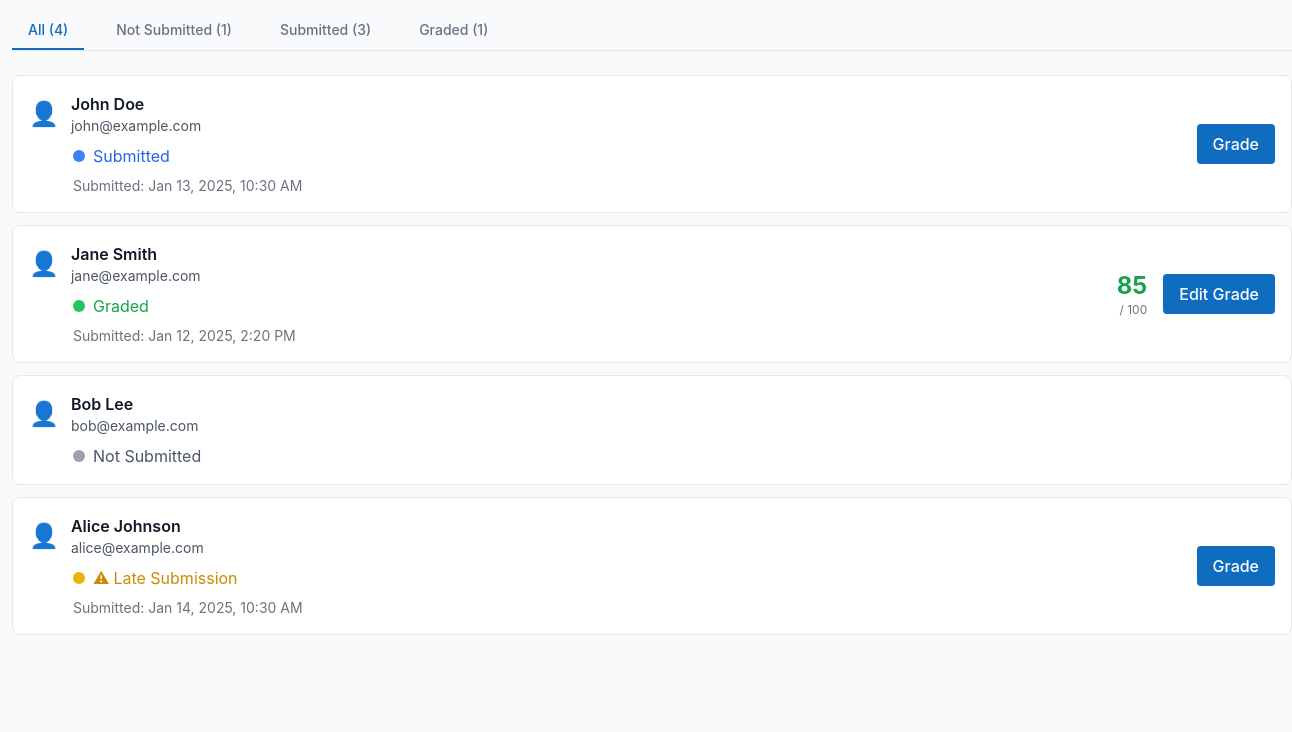
SubmissionList › should filter submissions by "Not Submitted" status
This screenshot has width=1292, height=732.
Click the button "Not Submitted (1)".
click(174, 31)  # box [100,12,248,50]
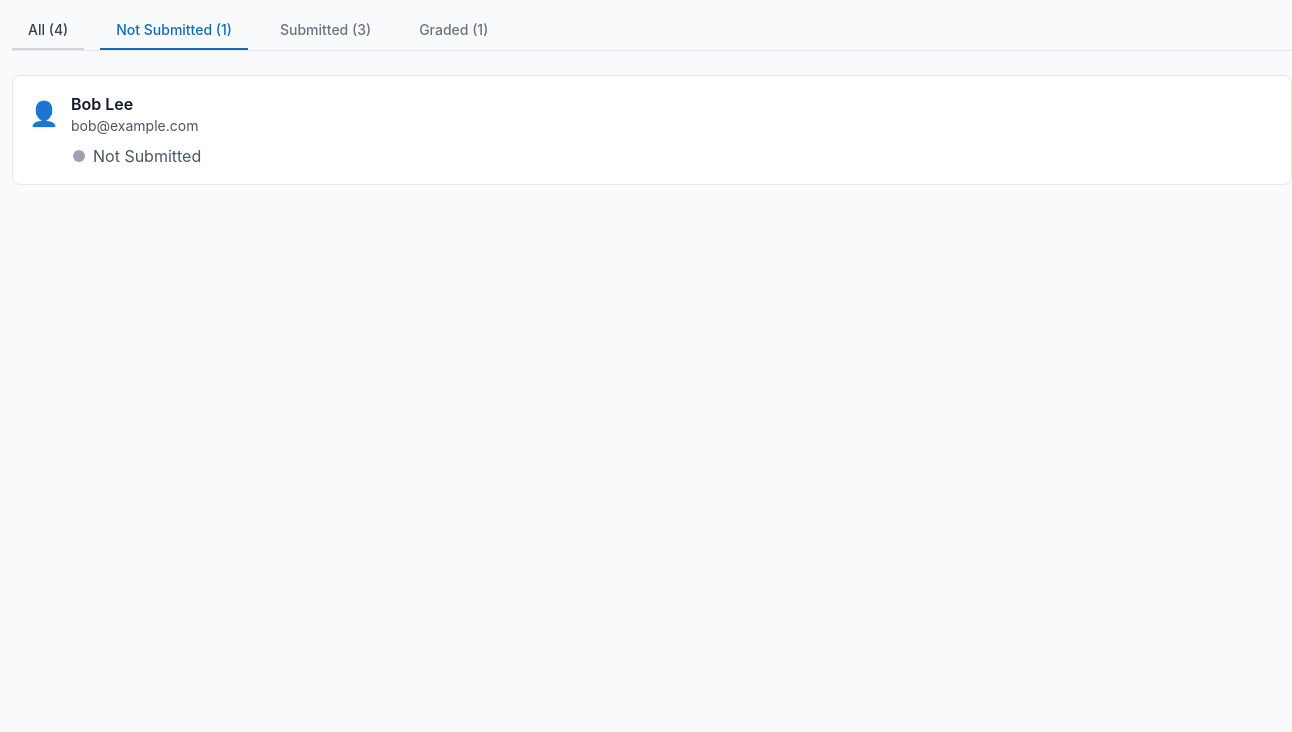
Expected: the heading "Bob Lee" is shown, [71,94,133,114]
Now the heading "John Doe" is gone
Now the heading "Jane Smith" is gone
